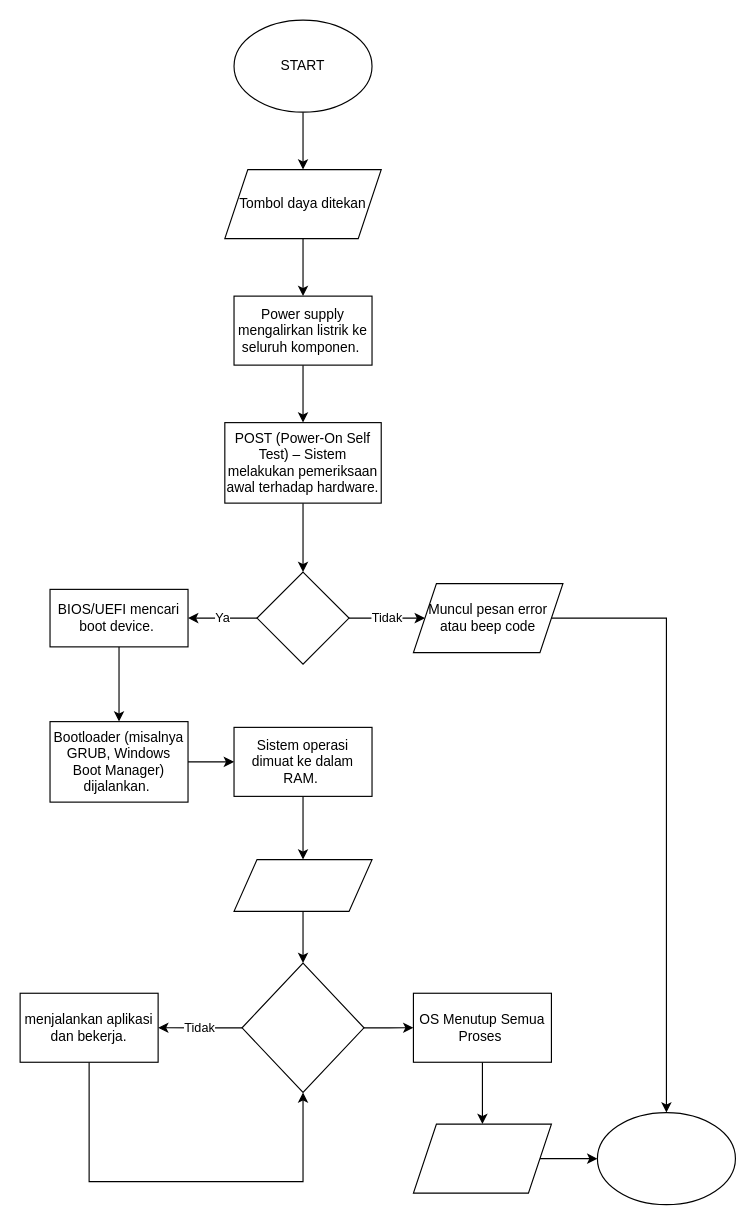
The diagram is 756 pixels wide and 1225 high, and some of its shapes have lost their labels. The shapes that lost their labels are listed below. From the top down, each one's centre as x and y in pixels, then its label:
At point 302,617: "Apakah berhasil?".
At point 302,884: "User Login".
At point 302,1027: "Apakah ingin mematikan komputer".
At point 481,1158: "Power Off".
At point 665,1158: "END".
